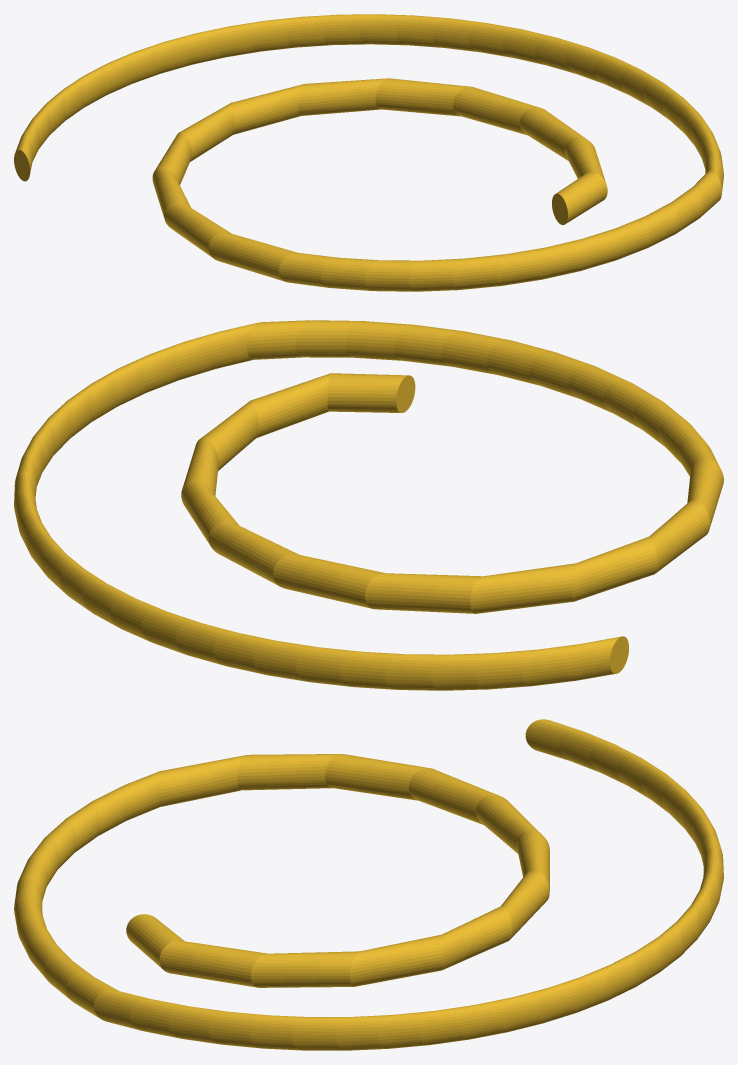
The model's file is SalseMostaza.fbx.
3 renders of one model, top to bottom at view 1: azimuth 30°, elevation 25°; view 2: azimuth 150°, elevation 25°; view 3: azimuth 270°, elevation 25°, orthographic. The views are drawn at different scales.
Visible parts, largest first — view 1: Cylinder; view 2: Cylinder; view 3: Cylinder.
Boxes of the visible parts, bbox=[...] form: Cylinder: bbox=[14, 14, 723, 291]; Cylinder: bbox=[14, 320, 723, 690]; Cylinder: bbox=[14, 719, 723, 1050].
Size of the model in its own units: 1114 by 56 by 1104.
